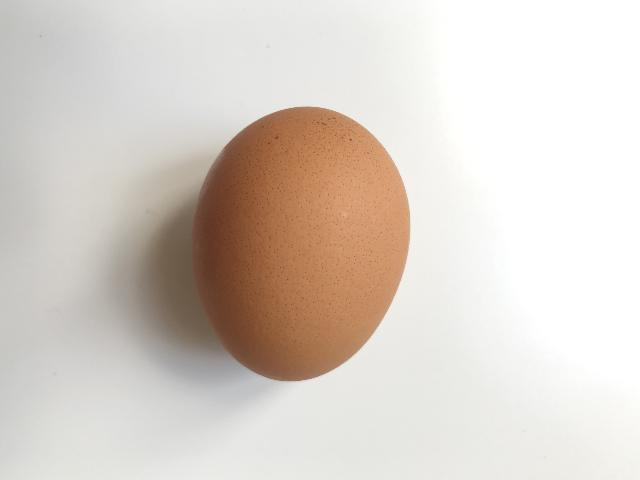Sano: (190, 105, 411, 382)
